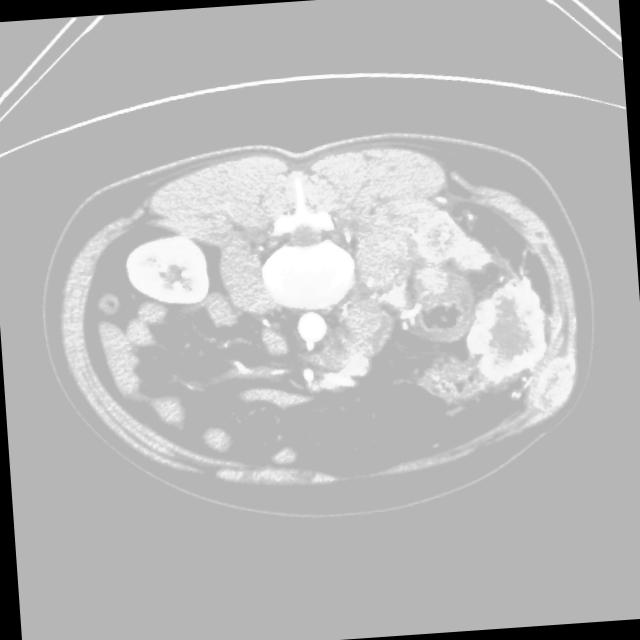TUMOR: (105, 174, 540, 468)
